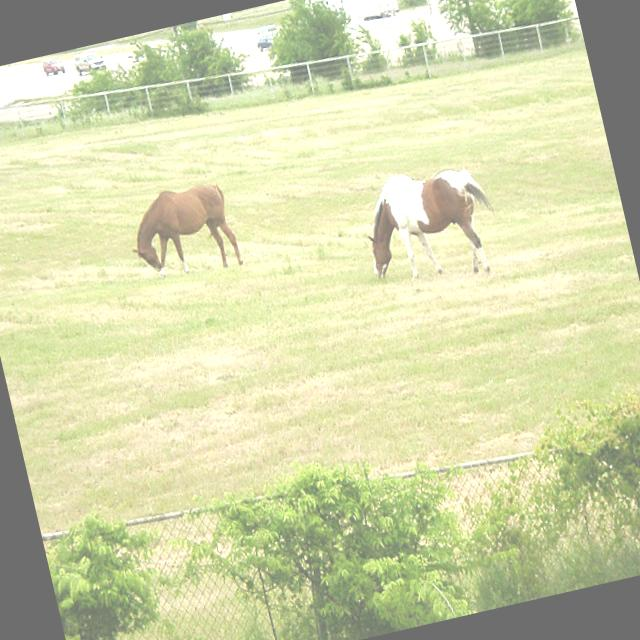Vehicle: (300, 0, 399, 32), (70, 49, 108, 76), (41, 56, 65, 76), (255, 21, 279, 41), (254, 32, 275, 52)
